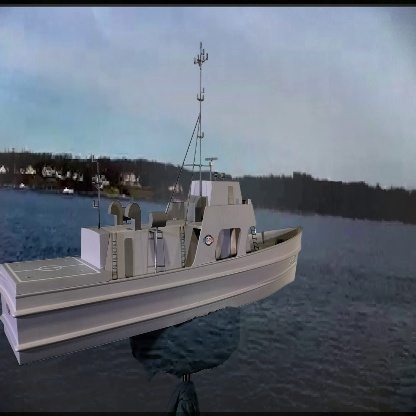YP689: (0, 41, 305, 365)
